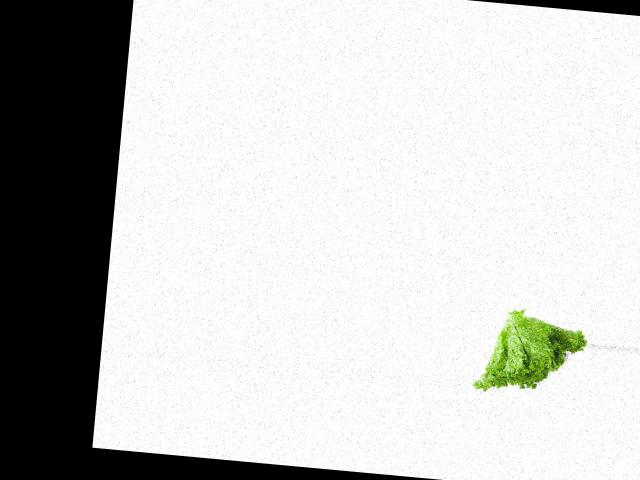lettuce: (471, 307, 590, 402)
